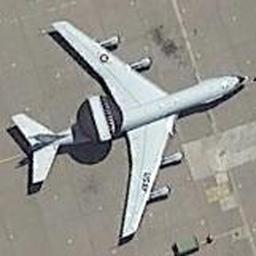Airplane: (2, 18, 249, 245)
